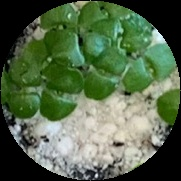Basil: (127, 43, 176, 96), (82, 50, 124, 104), (40, 71, 83, 121), (39, 2, 76, 57), (14, 67, 43, 117), (25, 41, 61, 79), (81, 0, 125, 30), (66, 34, 109, 64)
